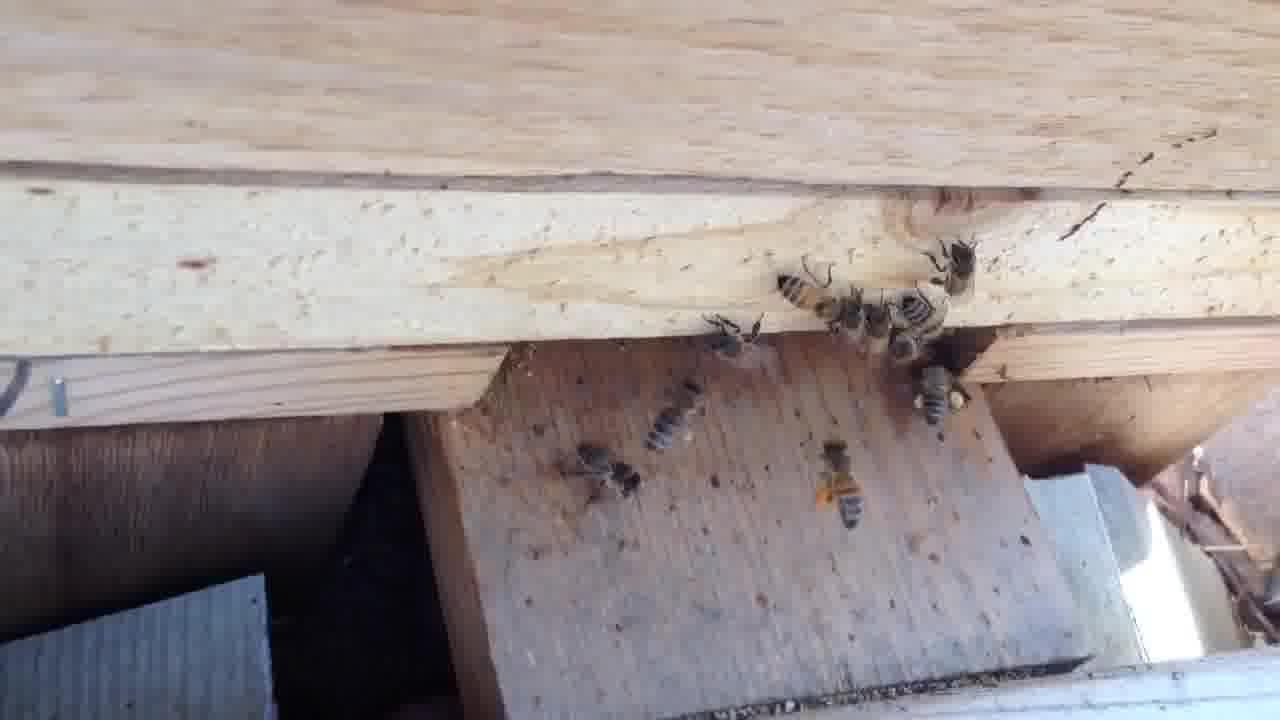pollen: (804, 432, 875, 534), (908, 358, 971, 435)
